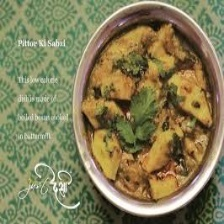sabzi: (75, 15, 224, 207)
